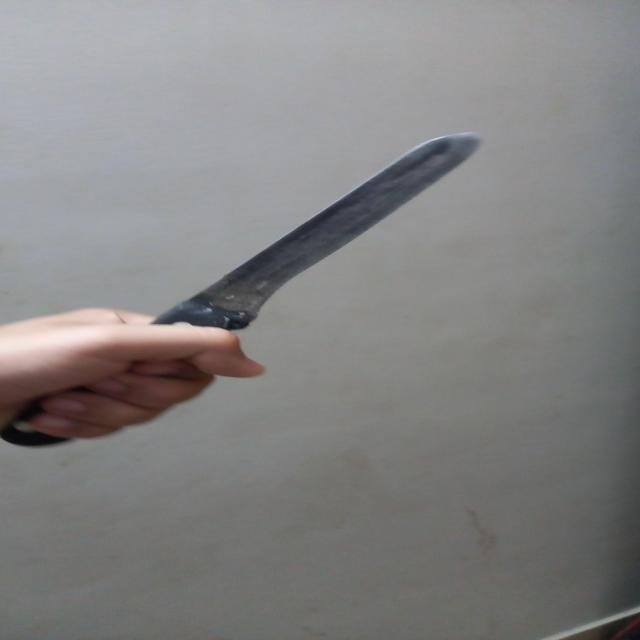Knife: (0, 130, 484, 447)
Person: (0, 306, 269, 439)
